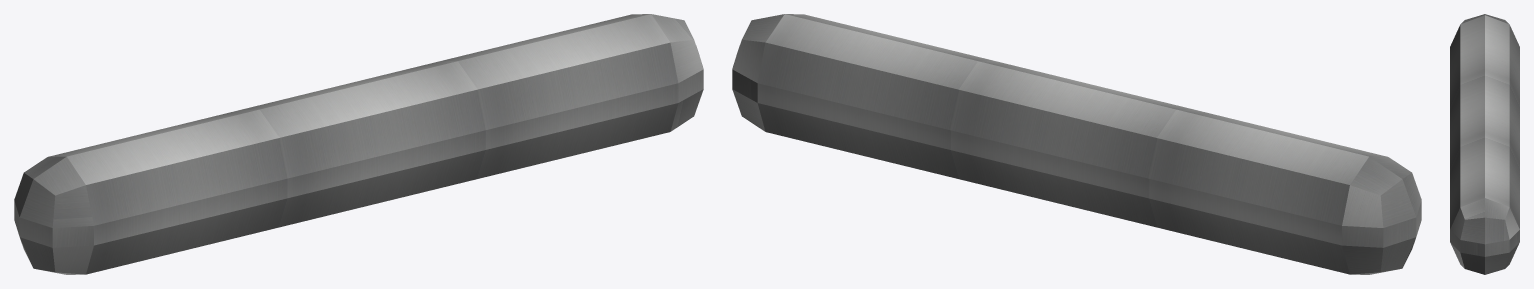
The model's file is bumper.glb.
3 views of the same model, side by side, from view 1: azimuth 30°, elevation 25°; view 2: azimuth 150°, elevation 25°; view 3: azimuth 270°, elevation 25° (orthographic). The views are drawn at different scales.
Visible parts, largest first — view 1: Cube; view 2: Cube; view 3: Cube.
Part boxes in pixels (bbox=[...]): Cube: bbox=[14, 14, 703, 274]; Cube: bbox=[732, 14, 1421, 274]; Cube: bbox=[1450, 14, 1519, 274].
Bounding box in the file's own units: 0.36 × 0.06 × 0.05.
Materials: 1 (1 with a texture image).
